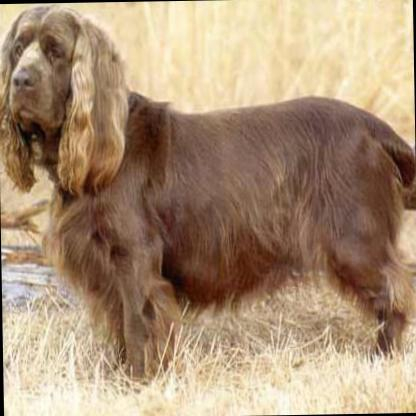Sussex_spaniel: (0, 0, 416, 385)
